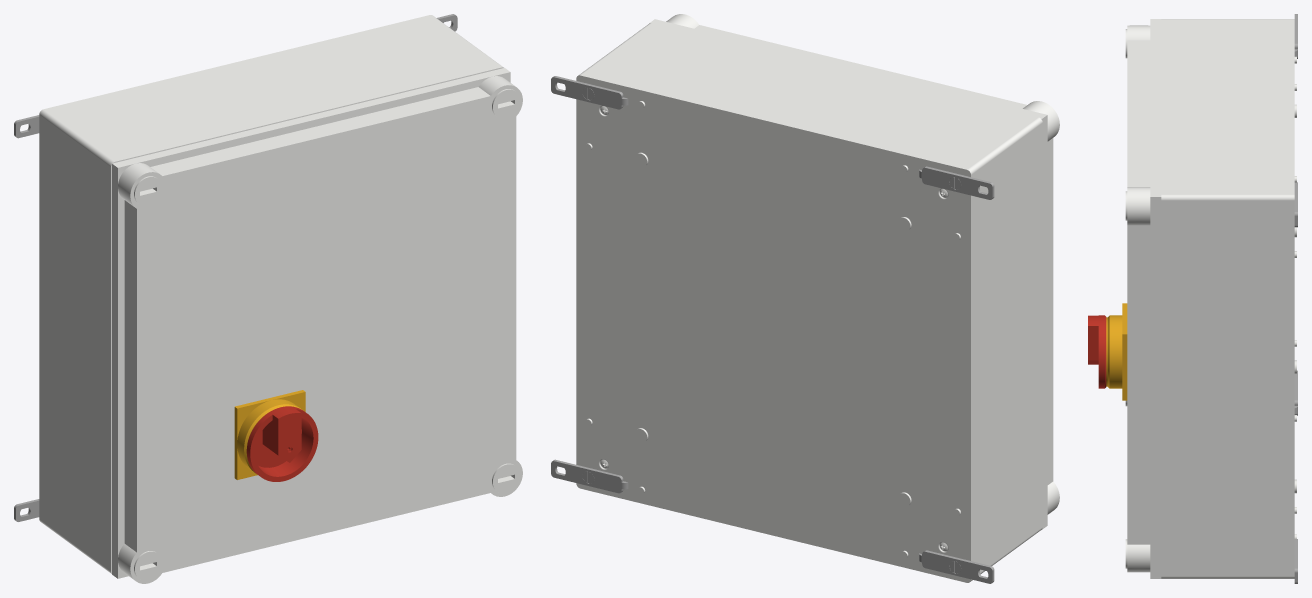
File: core_electircal_box.fbx
3 views of the same model, side by side, from view 1: azimuth 30°, elevation 25°; view 2: azimuth 150°, elevation 25°; view 3: azimuth 270°, elevation 25° (orthographic). The views are drawn at different scales.
Parts seen in each view (by area): view 1: Body1 (×4); view 2: Body1 (×6); view 3: Body1 (×4).
Part boxes in pixels (x1,y1,x2,y2): Body1 (×4): (39,15,522,583); Body1 (×6): (551,14,1059,583); Body1 (×4): (1088,19,1296,578).
Size of the model in its own units: 419 by 375 by 186.
